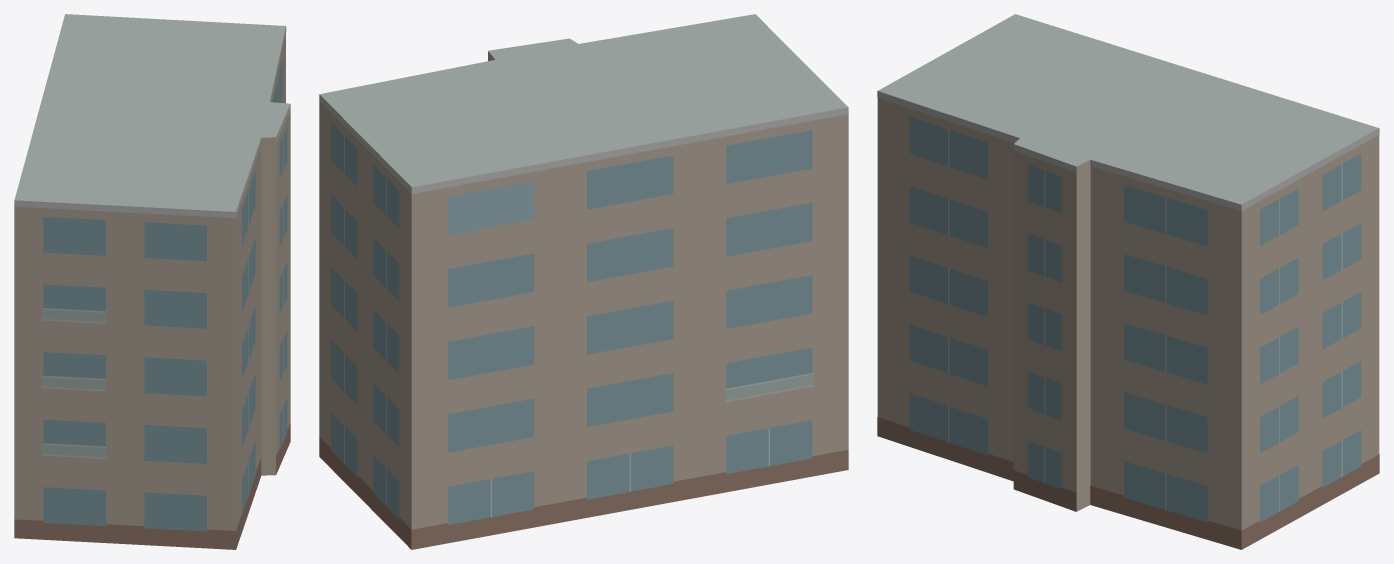
File: survey-upis-32842785.glb
The picture shows the model from 3 angles, left to right: view 1: azimuth 30°, elevation 25°; view 2: azimuth 150°, elevation 25°; view 3: azimuth 270°, elevation 25°; orthographic projection. The views are drawn at different scales.
Visible parts, largest first — view 1: survey-upis-32842785.tmp; view 2: survey-upis-32842785.tmp; view 3: survey-upis-32842785.tmp.
Part boxes in pixels (x1,y1,x2,y2): survey-upis-32842785.tmp: (14,14,290,549); survey-upis-32842785.tmp: (319,14,848,549); survey-upis-32842785.tmp: (877,14,1379,549).
Size of the model in its own units: 15.52 by 13.1 by 17.27.
